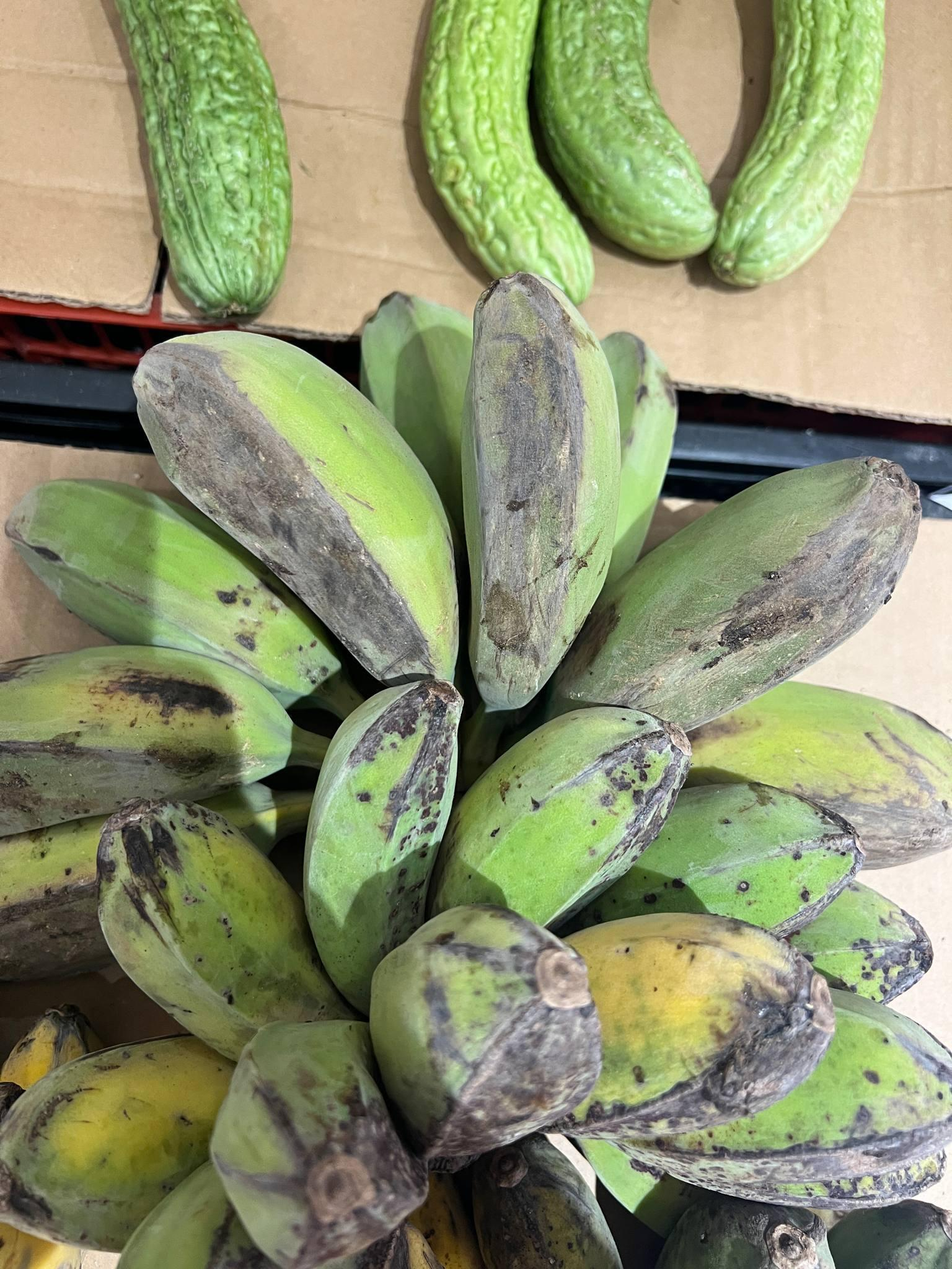underripe: (0, 272, 951, 987), (0, 679, 951, 1268)
